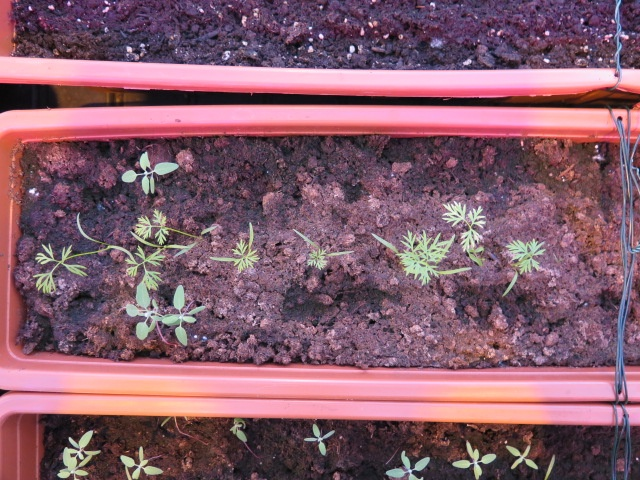crop: (31, 216, 216, 286), (370, 218, 466, 289), (204, 218, 266, 275), (497, 236, 551, 300), (438, 194, 486, 260), (290, 226, 358, 272)
weed: (117, 149, 184, 197), (300, 419, 339, 458), (502, 437, 541, 474)
